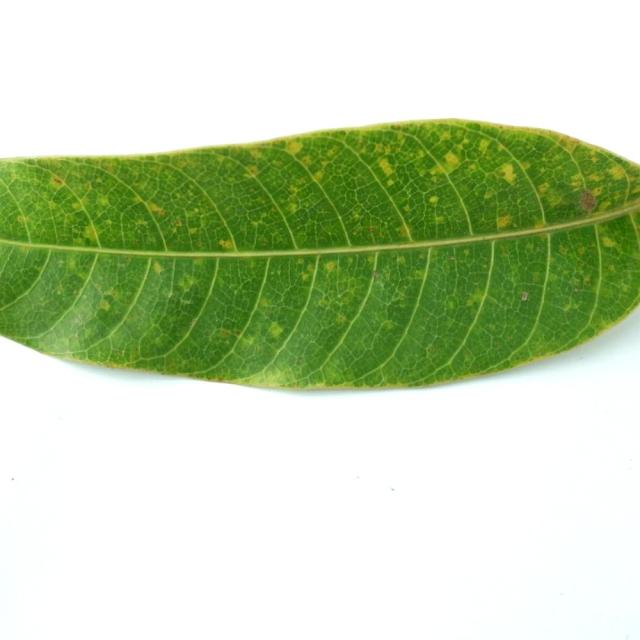Mango: (0, 120, 639, 388)
Powdery_Mildew: (372, 156, 400, 180), (322, 361, 344, 381), (498, 162, 516, 184), (579, 189, 596, 212), (176, 273, 197, 291), (544, 190, 564, 208), (467, 291, 486, 306), (443, 151, 460, 167), (609, 165, 627, 180), (268, 322, 284, 338), (239, 334, 257, 348), (287, 140, 303, 154), (83, 226, 97, 241), (565, 138, 580, 152), (71, 225, 85, 239), (148, 203, 164, 215), (497, 215, 511, 228), (398, 224, 411, 238), (601, 236, 616, 248), (478, 138, 490, 152), (418, 166, 432, 178), (303, 263, 315, 276), (219, 239, 234, 249), (180, 299, 196, 308), (381, 320, 394, 331), (560, 301, 573, 312), (226, 176, 239, 187), (429, 166, 443, 176), (99, 299, 110, 311), (97, 196, 109, 207), (415, 269, 427, 280), (68, 333, 80, 344), (153, 261, 163, 274), (532, 220, 545, 230), (324, 261, 335, 272), (249, 148, 261, 158), (373, 278, 385, 288), (287, 203, 298, 213), (313, 171, 323, 182), (538, 183, 549, 193), (335, 314, 346, 324), (259, 298, 270, 308), (246, 165, 258, 174), (569, 180, 581, 189), (219, 328, 231, 337), (441, 130, 451, 140), (318, 297, 328, 307), (71, 201, 82, 210), (48, 201, 59, 210), (520, 161, 530, 170), (446, 300, 455, 310), (375, 144, 385, 153), (97, 307, 108, 315), (52, 177, 63, 185), (583, 276, 592, 285), (429, 196, 439, 204), (301, 156, 311, 164), (561, 136, 571, 144), (466, 299, 475, 307), (288, 195, 297, 203), (55, 286, 64, 294), (577, 247, 586, 255), (594, 187, 603, 195), (559, 247, 568, 255), (103, 220, 112, 228), (188, 227, 198, 234), (435, 216, 445, 223), (571, 279, 581, 286), (397, 256, 405, 264), (301, 273, 309, 281), (296, 357, 304, 365), (468, 164, 477, 171), (288, 186, 297, 193), (133, 195, 142, 202), (352, 213, 361, 220), (607, 265, 616, 272), (189, 319, 196, 328), (521, 292, 528, 301), (17, 216, 27, 222), (251, 221, 259, 228), (187, 190, 194, 198), (426, 347, 434, 354), (392, 124, 401, 130), (372, 270, 378, 279), (403, 205, 410, 212), (174, 219, 181, 226), (462, 249, 469, 255), (369, 226, 375, 233), (58, 260, 64, 267), (124, 255, 131, 261), (116, 349, 123, 355), (217, 377, 225, 382), (193, 207, 199, 213), (297, 258, 303, 264), (234, 329, 240, 335), (197, 241, 202, 247), (450, 255, 455, 260), (574, 288, 579, 292)
